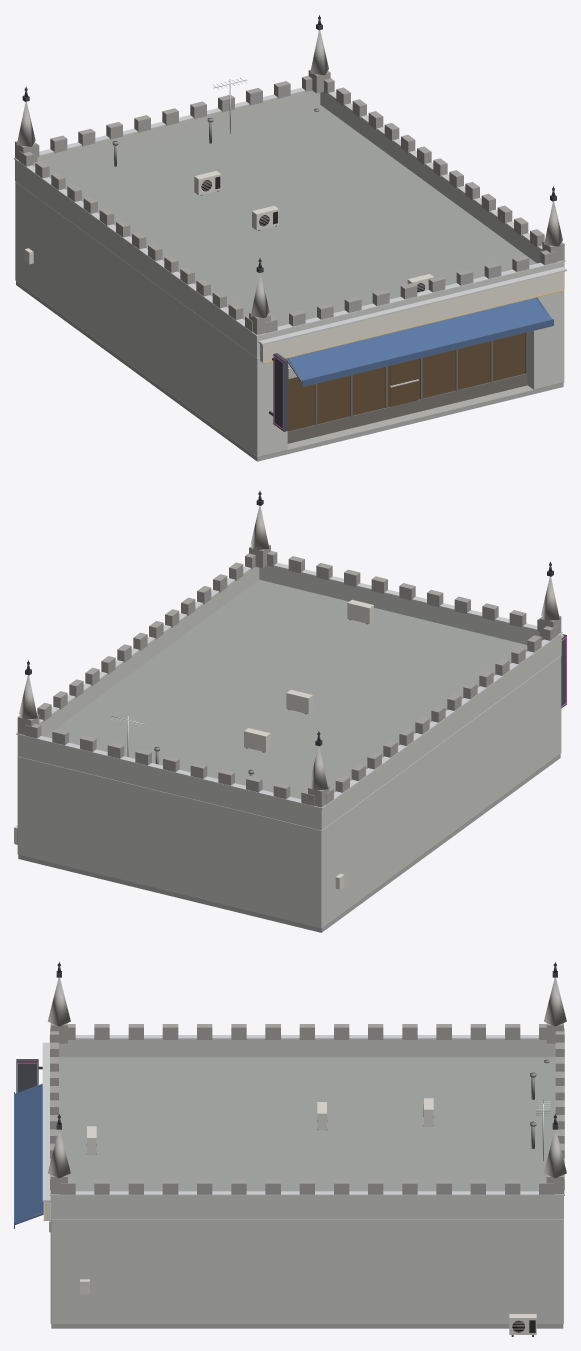
File: blk_printshop.glb
3 renders of one model, top to bottom at view 1: azimuth 30°, elevation 25°; view 2: azimuth 150°, elevation 25°; view 3: azimuth 270°, elevation 25°, orthographic. The views are drawn at different scales.
Visible parts, largest first — view 1: blk_printshop; view 2: blk_printshop; view 3: blk_printshop.
Part boxes in pixels (x1,y1,x2,y2): blk_printshop: (14,15,566,461); blk_printshop: (14,491,566,932); blk_printshop: (14,961,566,1336).
Size of the model in its own units: 11.76 by 6.85 by 16.16.
